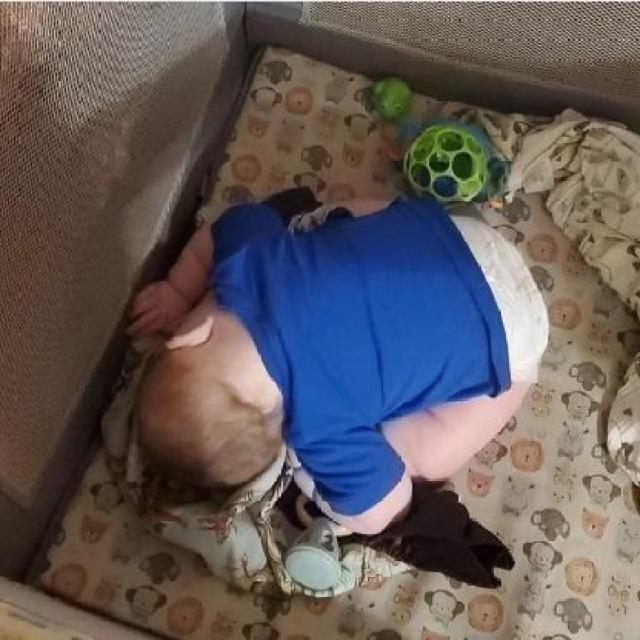baby: (124, 188, 550, 532)
